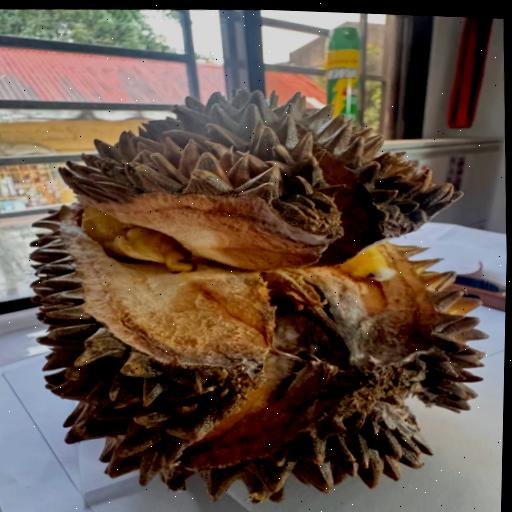rot: (0, 58, 511, 512), (174, 259, 468, 399)
